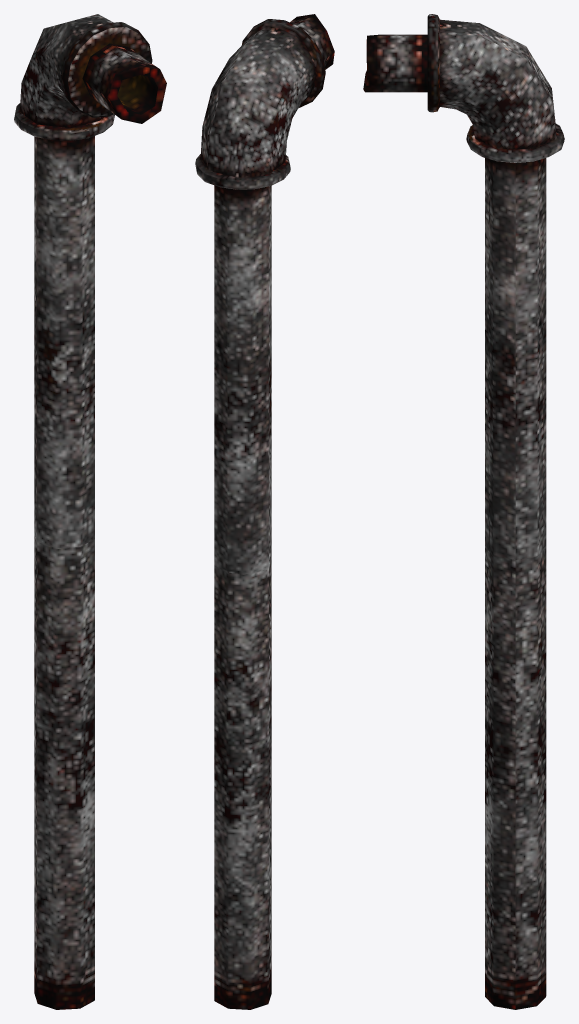
Rendered from Model_Weapon_MetalPipe_EmbeddedMedia.fbx.
The picture shows the model from 3 angles, left to right: view 1: azimuth 30°, elevation 25°; view 2: azimuth 150°, elevation 25°; view 3: azimuth 270°, elevation 25°; orthographic projection. The views are drawn at different scales.
Parts seen in each view (by area): view 1: Weapon_MetalPipe; view 2: Weapon_MetalPipe; view 3: Weapon_MetalPipe.
Boxes of the visible parts, x1=… form: Weapon_MetalPipe: x1=14, y1=14, x2=166, y2=1009; Weapon_MetalPipe: x1=195, y1=14, x2=334, y2=1009; Weapon_MetalPipe: x1=363, y1=14, x2=564, y2=1009.
Size of the model in its own units: 5.52 by 60.11 by 11.21.
Materials: 1 (1 with a texture image).
